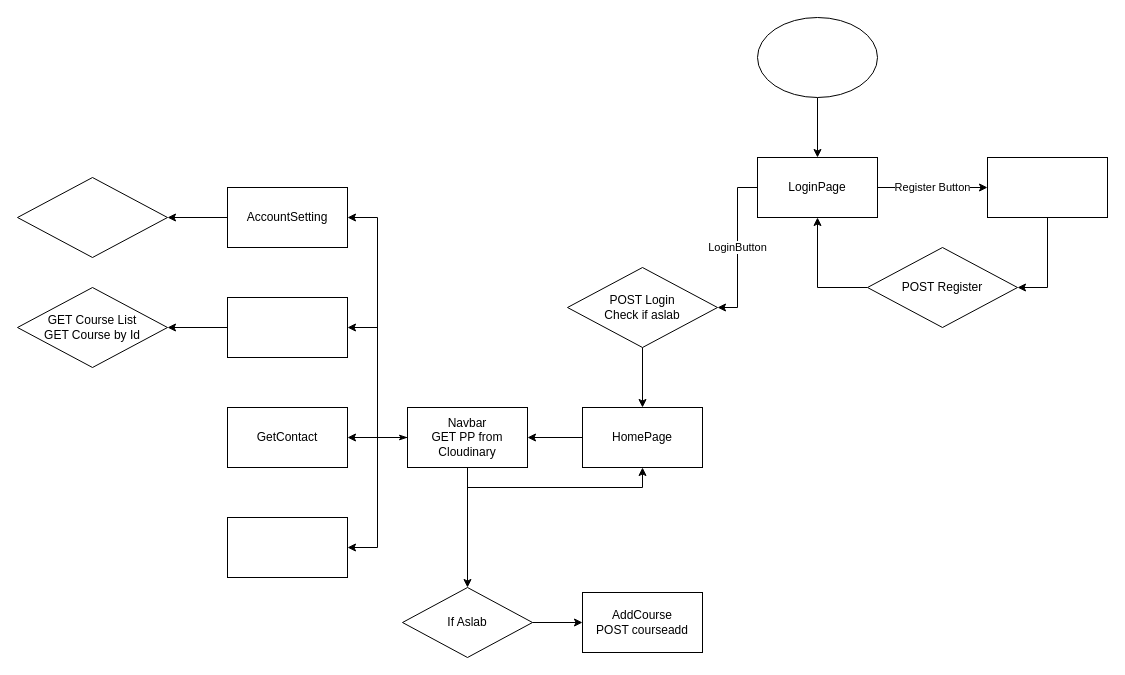
This 1125x675 diagram has some shape labels left out. Each missing label, with the centre of its shape:
AboutMe: [287,547]
Course: [287,327]
POST Update/Delete User POST addPP: [92,217]
RegisterPage: [1047,187]
Start: [817,57]
